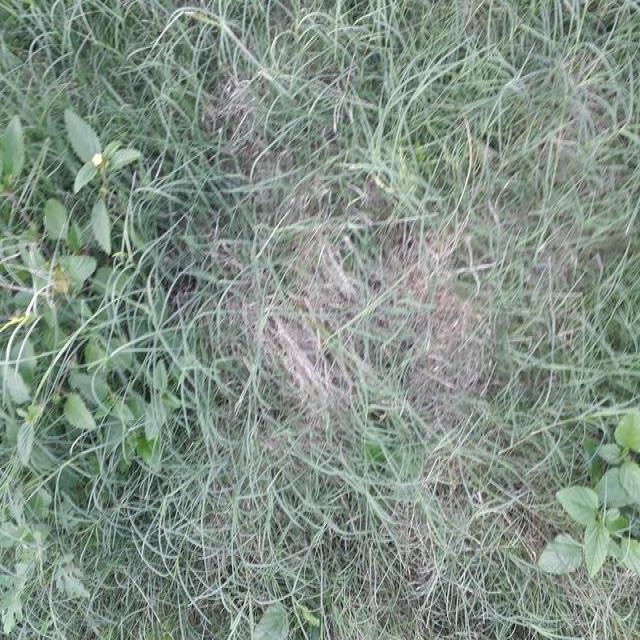weed: (0, 95, 177, 488), (262, 8, 526, 148), (542, 476, 640, 587)
